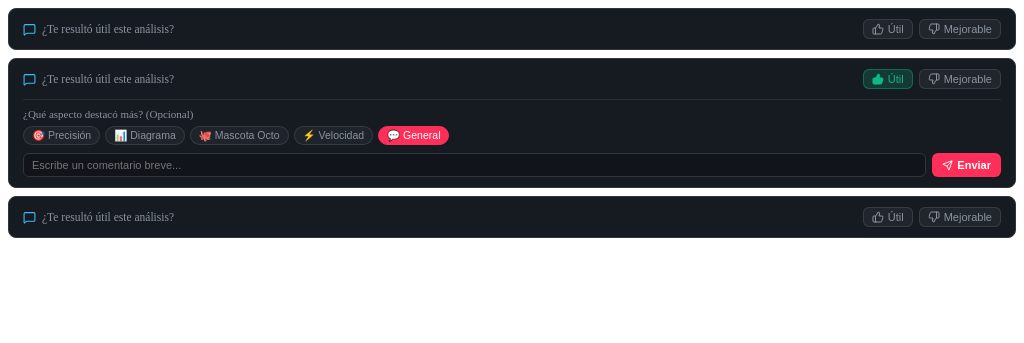
Test: UserFeedbackWidget › submitting detailed feedback updates to thank you message
Click the 3rd button "Útil".
click(888, 217)  # box [863,207,913,227]
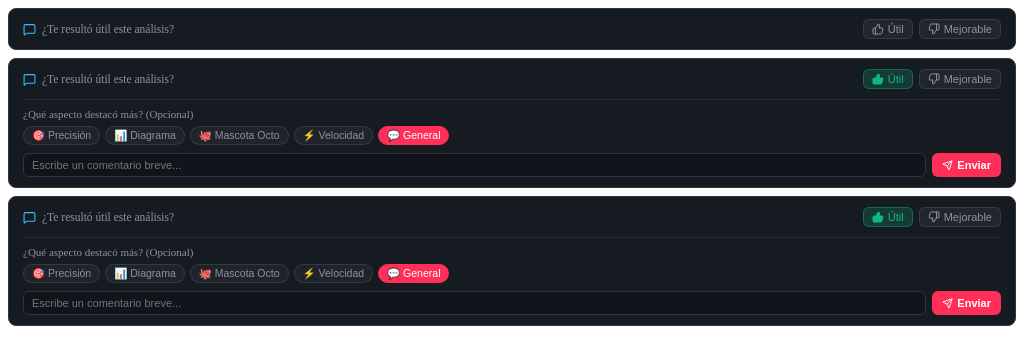
Type "Excelente resumen!" into the 2nd field with placeholder "Escribe un comentario breve...".
click(475, 303); type("Excelente resumen!")  # box [23,291,926,315]
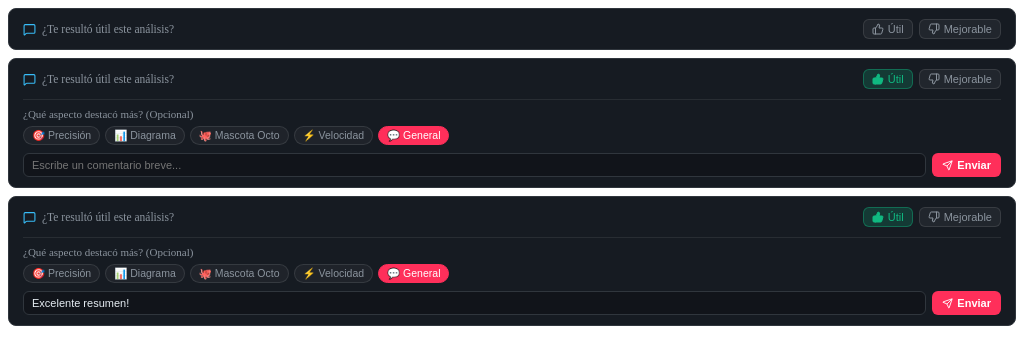
Submit the form that starts with "¿Qué aspecto destacó más? (Opcional)", box [23,237,1001,315]
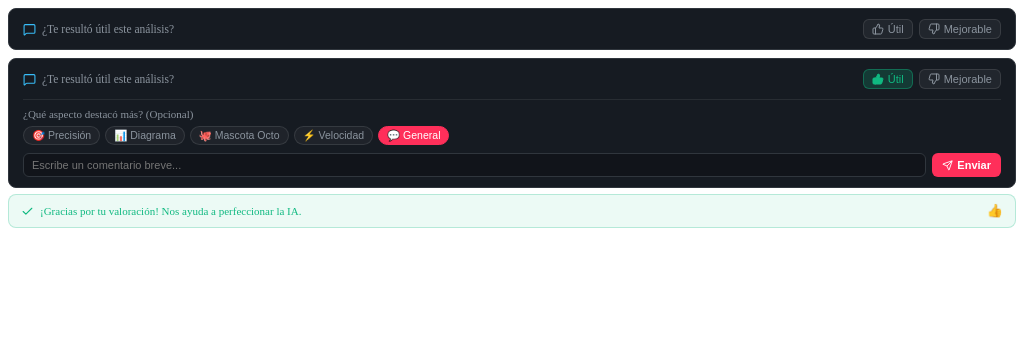
Now the text "¡Gracias por tu valoración!" is shown, box [40,205,301,217]
